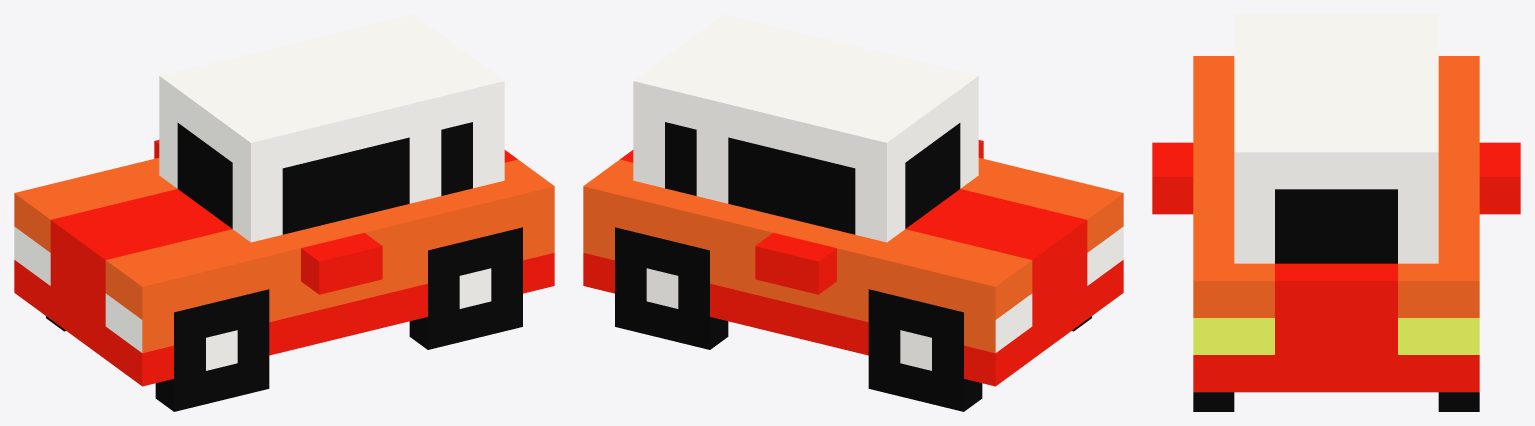
Rendered from car_red.glb.
The picture shows the model from 3 angles, left to right: view 1: azimuth 30°, elevation 25°; view 2: azimuth 150°, elevation 25°; view 3: azimuth 270°, elevation 25°; orthographic projection. The views are drawn at different scales.
Parts seen in each view (by area): view 1: Cube; view 2: Cube; view 3: Cube.
Part boxes in pixels (bbox=[...]): Cube: bbox=[14, 14, 554, 411]; Cube: bbox=[583, 14, 1123, 411]; Cube: bbox=[1152, 14, 1520, 411].
Bounding box in the file's own units: 5.2 × 2.8 × 3.6.
1 material, 1 textured.
